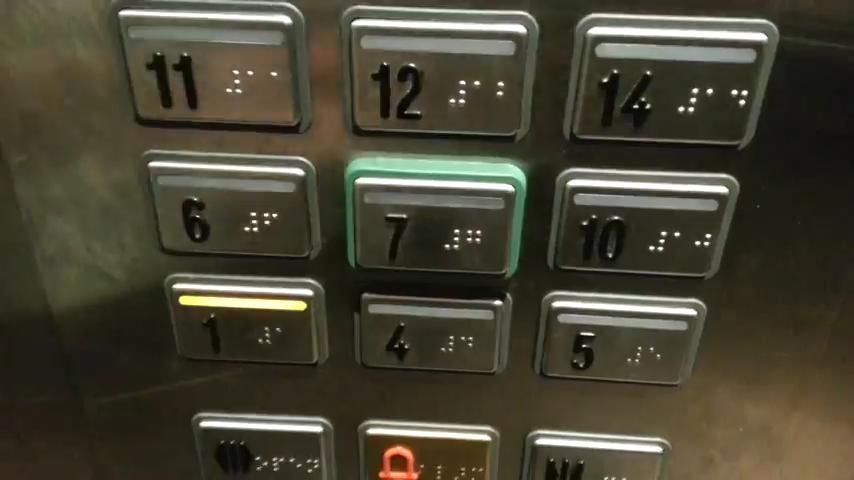1: (163, 273, 329, 372)
10: (547, 167, 739, 280)
11: (109, 1, 313, 134)
12: (340, 2, 543, 142)
14: (563, 12, 779, 152)
4: (353, 285, 517, 378)
5: (529, 291, 707, 387)
6: (137, 149, 325, 265)
7: (344, 153, 526, 281)
alarm: (354, 412, 502, 480)
open: (189, 408, 341, 480)
